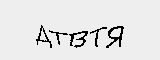В: (69, 28, 87, 49)
Д: (33, 24, 51, 50)
Т: (48, 28, 69, 50), (90, 25, 105, 47)
Я: (105, 24, 126, 49)
